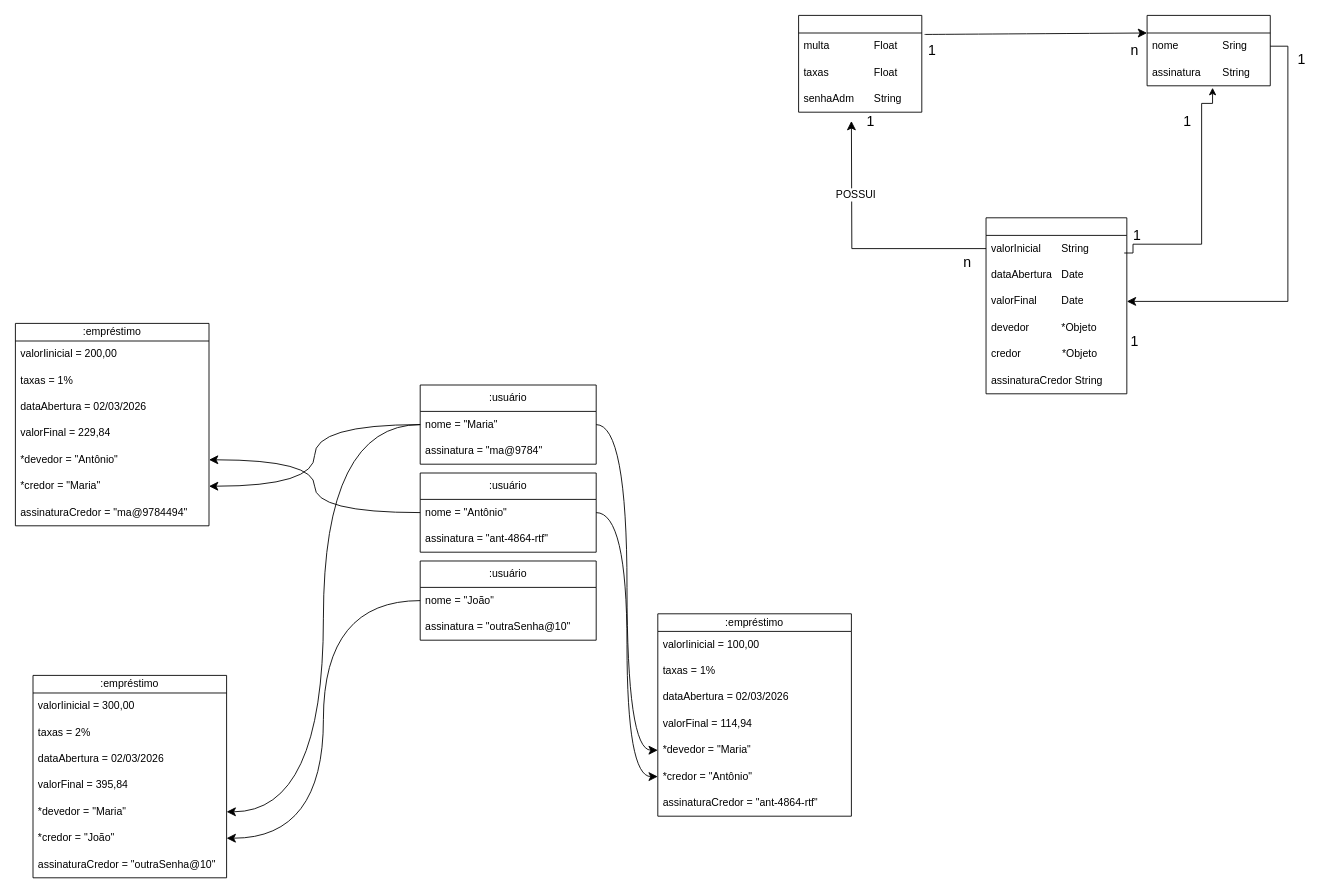
This 1328x893 diagram has some shape labels left out. Each missing label, with the box of its shape:
EMPRÉ STIMO: (985, 217, 1127, 394)
Sistema: (798, 15, 922, 112)
Usuário: (1146, 15, 1270, 86)
